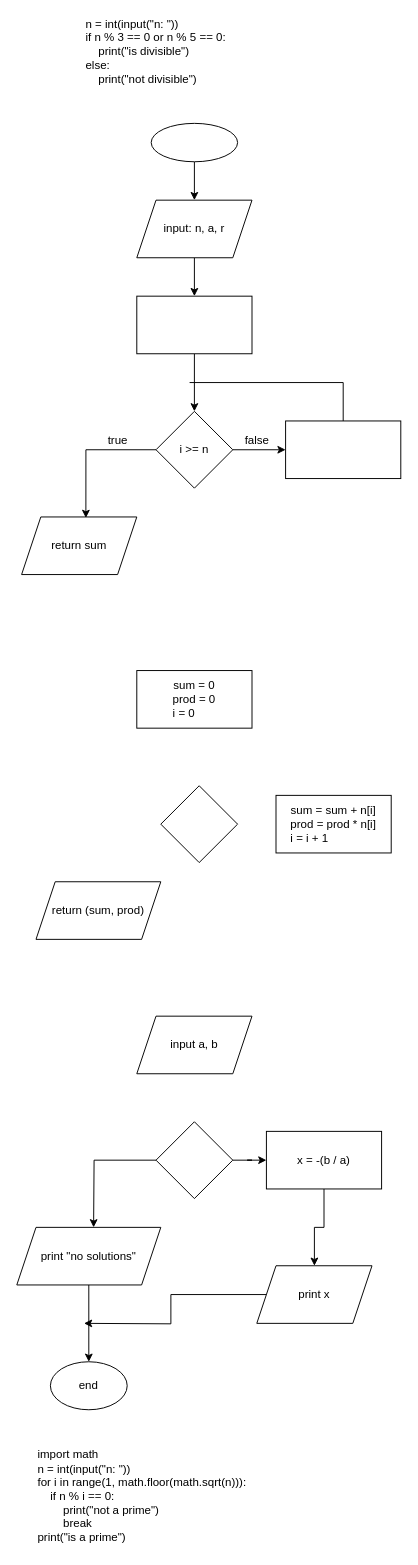
This 418x1565 diagram has some shape labels left out. The box of each missing label's shape, as (x1, y1, x2, y2) in pixels:
a == 0: (155, 1121, 233, 1199)
i >= n.size(): (160, 785, 238, 863)
start: (150, 122, 238, 162)
sum = 0 i = 0: (136, 295, 252, 354)
sum = sum + a a = a + r i = i + 1: (285, 420, 401, 479)
